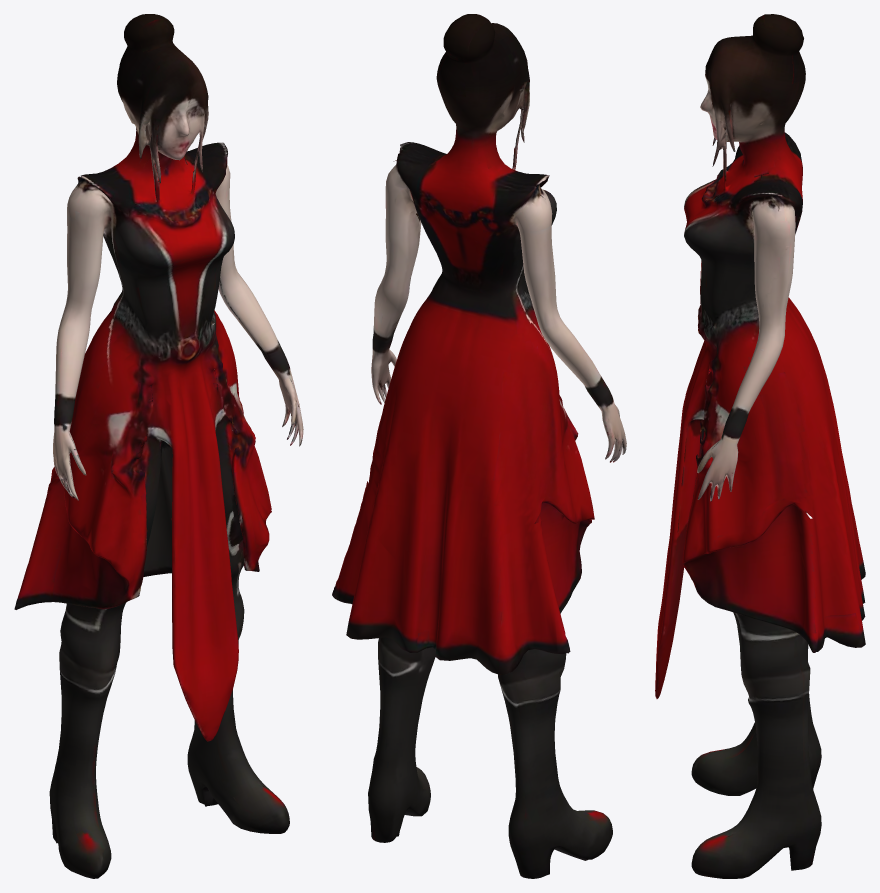
The model's file is ignis-esquelio-female-mage.glb.
3 renders of one model, left to right at view 1: azimuth 30°, elevation 25°; view 2: azimuth 150°, elevation 25°; view 3: azimuth 270°, elevation 25°, orthographic.
Parts seen in each view (by area): view 1: model; view 2: model; view 3: model.
Part boxes in pixels (x1,y1,x2,y2): model: (14,14,303,878); model: (332,14,626,878); model: (655,14,865,878).
Bounding box in the file's own units: 0.5865 × 1.9 × 0.4459.
Materials: 1 (1 with a texture image).
